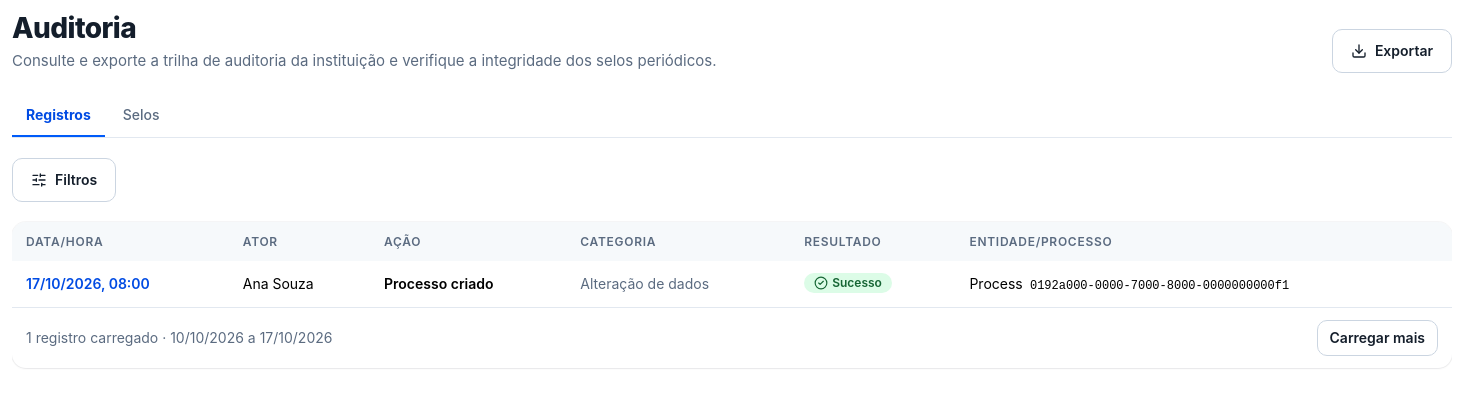
Test: [Sucesso] pesquisar e ver o detalhe (SCR-037 · AUD-01/AUD-02) › "Carregar mais" segue o cursor
The image size is (1464, 417).
Expected: the table named "Registros da trilha de auditoria" is shown, [12,222,1452,307]
Click the button "Carregar mais" at {"x": 1377, "y": 338}, box [1316,320,1438,356]
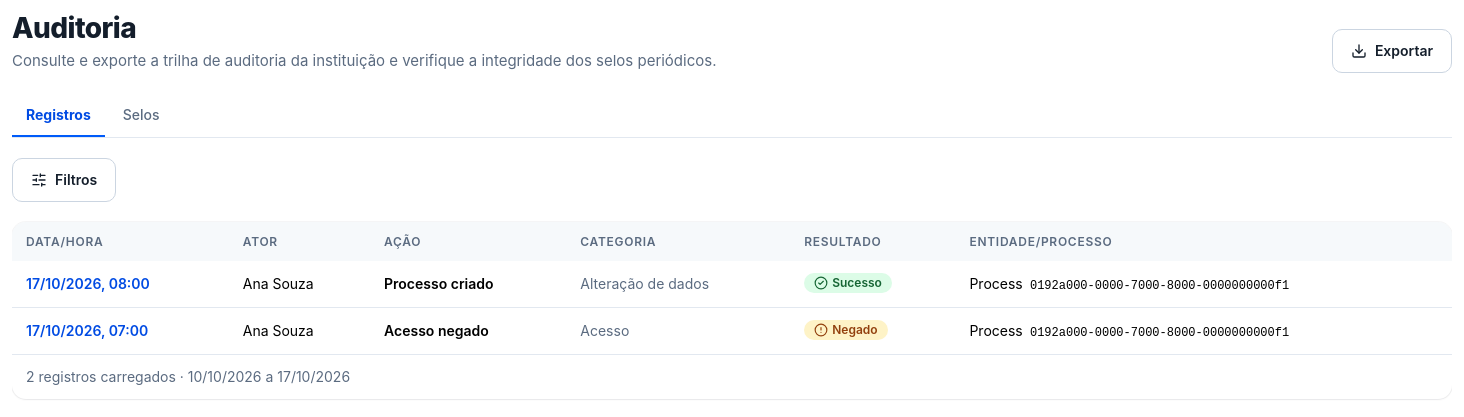
Expected: the text "Acesso negado" is shown, [370,308,566,354]
Expected: the text "2 registros carregados" is shown, [26,368,176,385]
